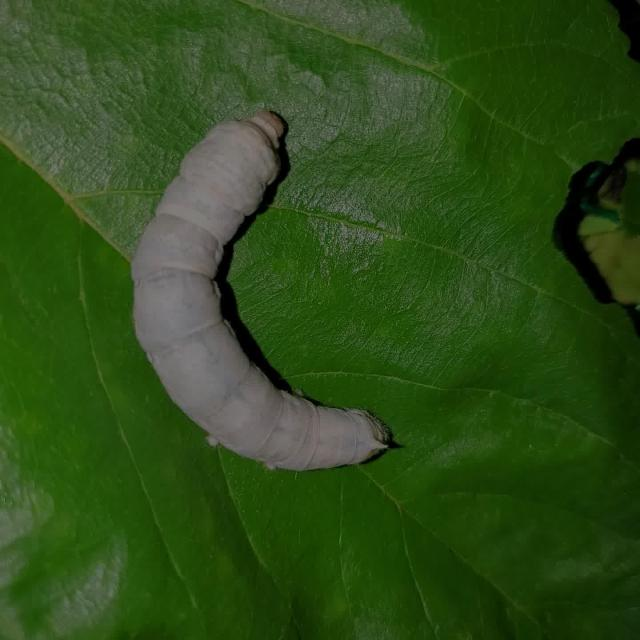Healthy: (119, 104, 415, 484)
